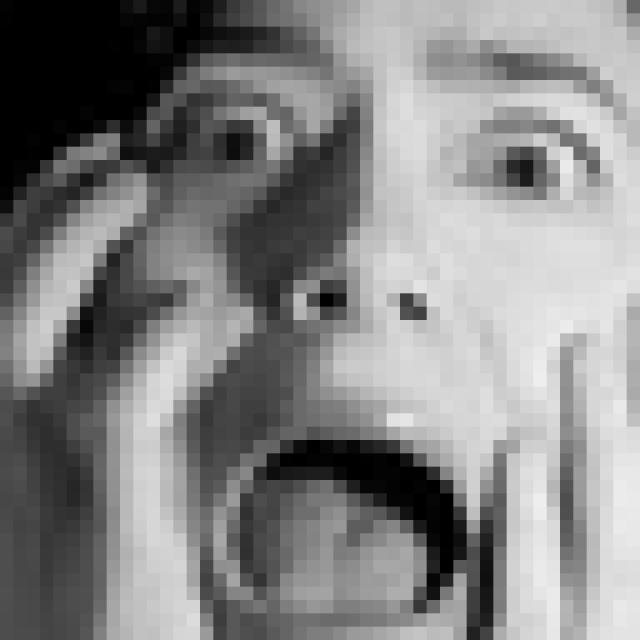fear: (136, 11, 640, 640)
